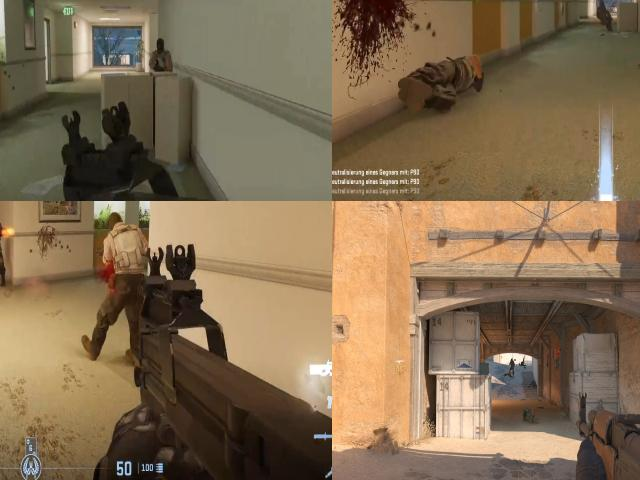CT: (0, 219, 8, 255), (509, 359, 515, 375)
CT-Head: (510, 359, 513, 361)
Dead: (102, 202, 143, 329), (402, 51, 491, 107), (594, 0, 614, 27), (523, 408, 535, 421), (530, 380, 538, 388), (504, 371, 514, 376), (519, 361, 526, 367)
T: (152, 36, 172, 73)
T-Head: (153, 38, 169, 52)
